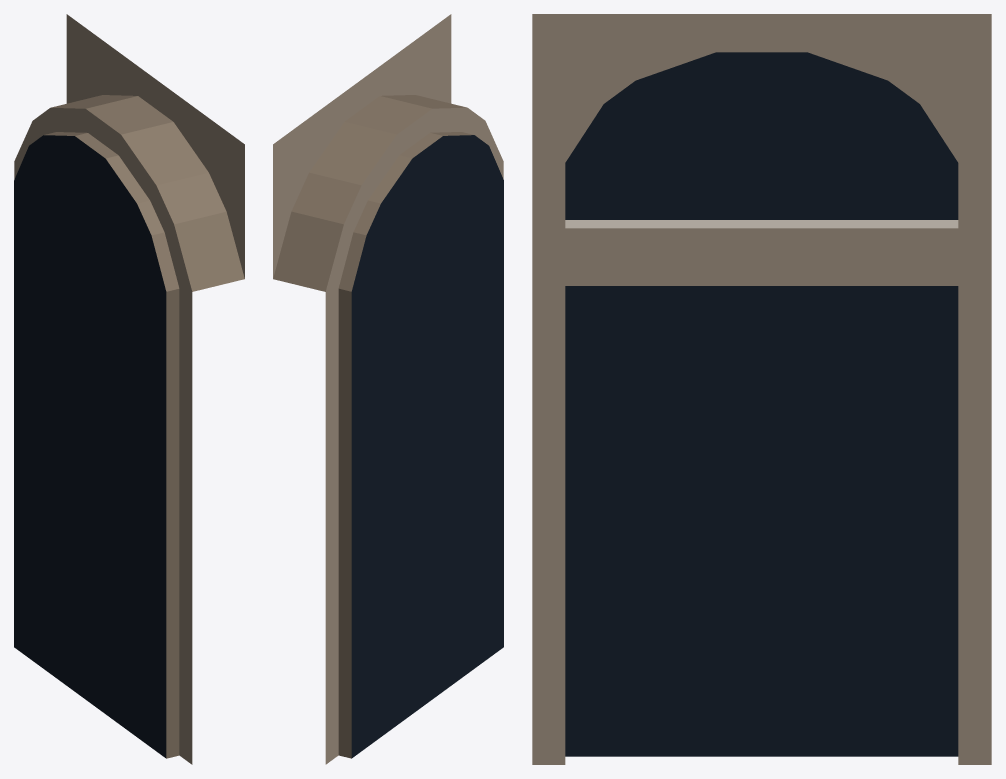
The model's file is red_brick_building_ground_floor_door.fbx.
The picture shows the model from 3 angles, left to right: view 1: azimuth 30°, elevation 25°; view 2: azimuth 150°, elevation 25°; view 3: azimuth 270°, elevation 25°; orthographic projection. The views are drawn at different scales.
Visible parts, largest first — view 1: red_brick_building_ground_floor_door; view 2: red_brick_building_ground_floor_door; view 3: red_brick_building_ground_floor_door.
Boxes of the visible parts, <box> form: red_brick_building_ground_floor_door: <box>14,14,244,764</box>; red_brick_building_ground_floor_door: <box>273,14,503,764</box>; red_brick_building_ground_floor_door: <box>532,14,991,764</box>.
Bounding box in the file's own units: 72.3 × 640 × 340.
